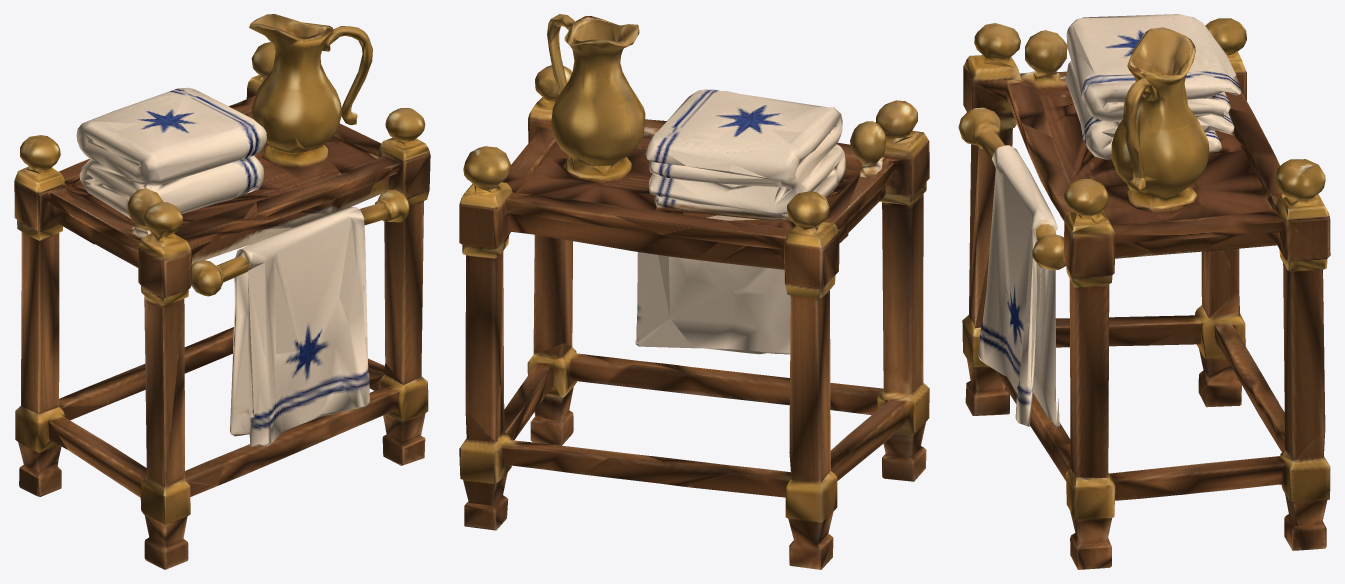
File: towel-stand.glb
3 views of the same model, side by side, from view 1: azimuth 30°, elevation 25°; view 2: azimuth 150°, elevation 25°; view 3: azimuth 270°, elevation 25° (orthographic). The views are drawn at different scales.
Parts seen in each view (by area): view 1: towel-stand; view 2: towel-stand; view 3: towel-stand.
Part boxes in pixels (bbox=[...]): towel-stand: bbox=[14, 14, 430, 569]; towel-stand: bbox=[459, 14, 929, 569]; towel-stand: bbox=[958, 14, 1330, 569].
Bounding box in the file's own units: 1.91 × 2.33 × 1.65.
Materials: 1 (1 with a texture image).
